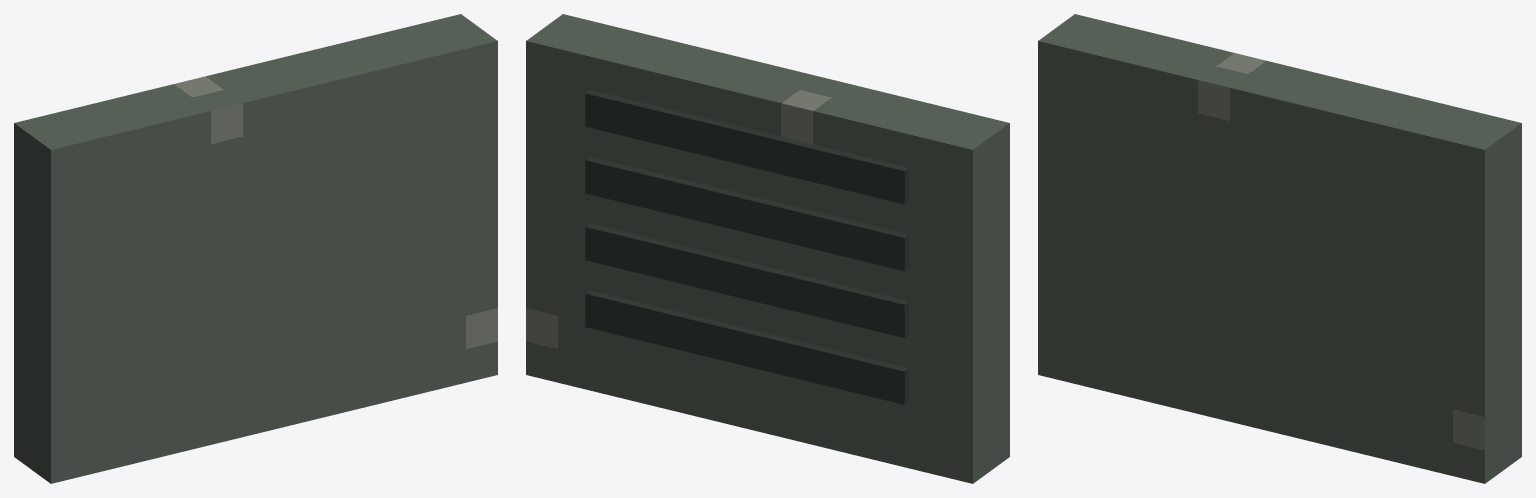
The model's file is vent_grille.gltf.
The picture shows the model from 3 angles, left to right: view 1: azimuth 30°, elevation 25°; view 2: azimuth 150°, elevation 25°; view 3: azimuth 330°, elevation 25°; orthographic projection.
Parts seen in each view (by area): view 1: frame; view 2: frame, slot (×4); view 3: frame.
Boxes of the visible parts, x1,y1,x2,y2 form: frame: (14,14,497,483); frame: (526,14,1009,483); slot (×4): (585,90,908,404); frame: (1038,14,1521,483).
Bounding box in the file's own units: 0.875 × 0.625 × 0.1406.
Materials: 2 (2 with a texture image).
